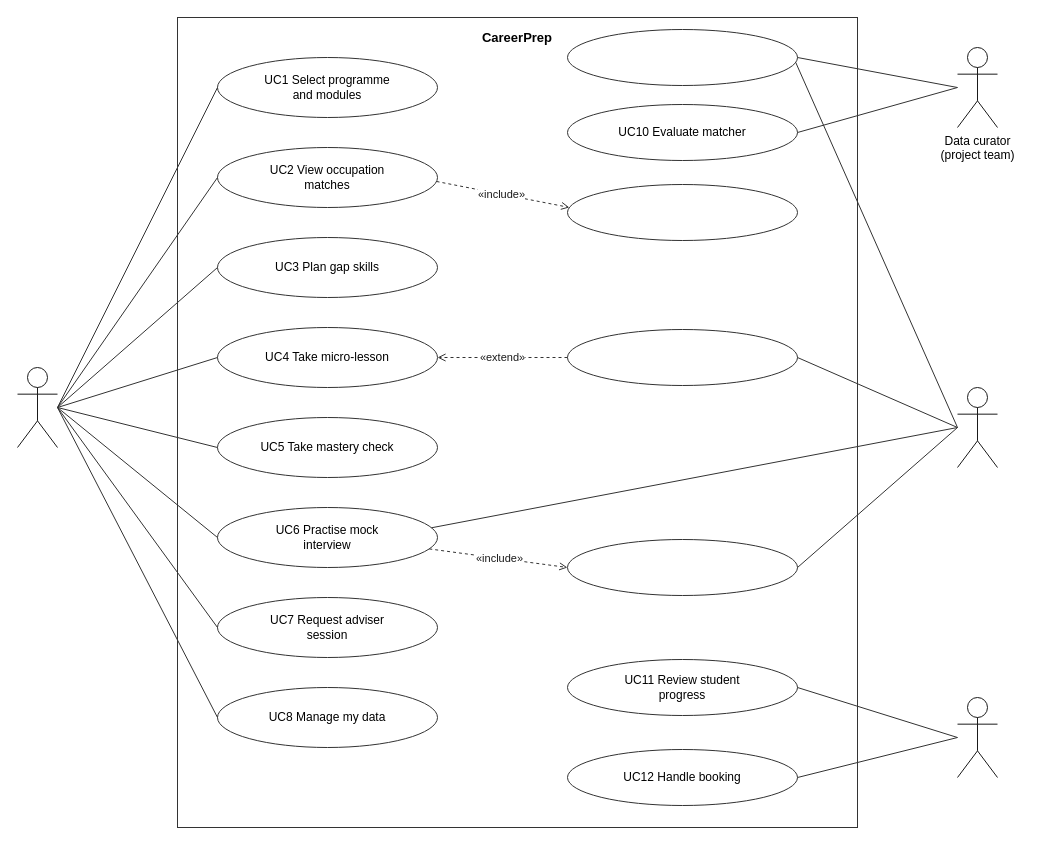
This 1040x845 diagram has some shape labels left out. The shapes that lost their labels are listed below. From the top down, each one's centre as x and y in pixels, then its label:
At [682,57]: "UC9 Load reference data and learning outcomes".
At [682,212]: "Show skill evidence".
At [682,357]: "Ask for a hint".
At [37,407]: "Student".
At [977,427]: "Language-model provider (secondary)".
At [682,567]: "Evaluate answer".
At [977,737]: "Career adviser".
